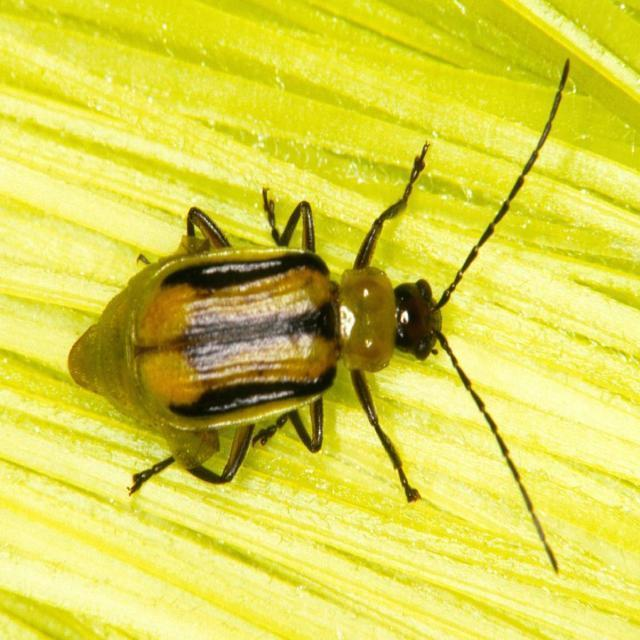trips: (69, 56, 576, 582)
